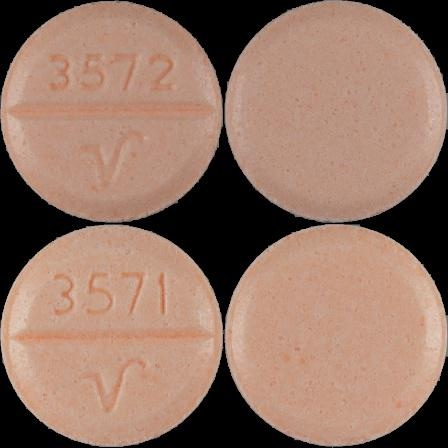67544-338: (0, 0, 224, 224)
